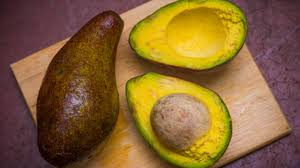aguacate: (30, 9, 123, 162)
